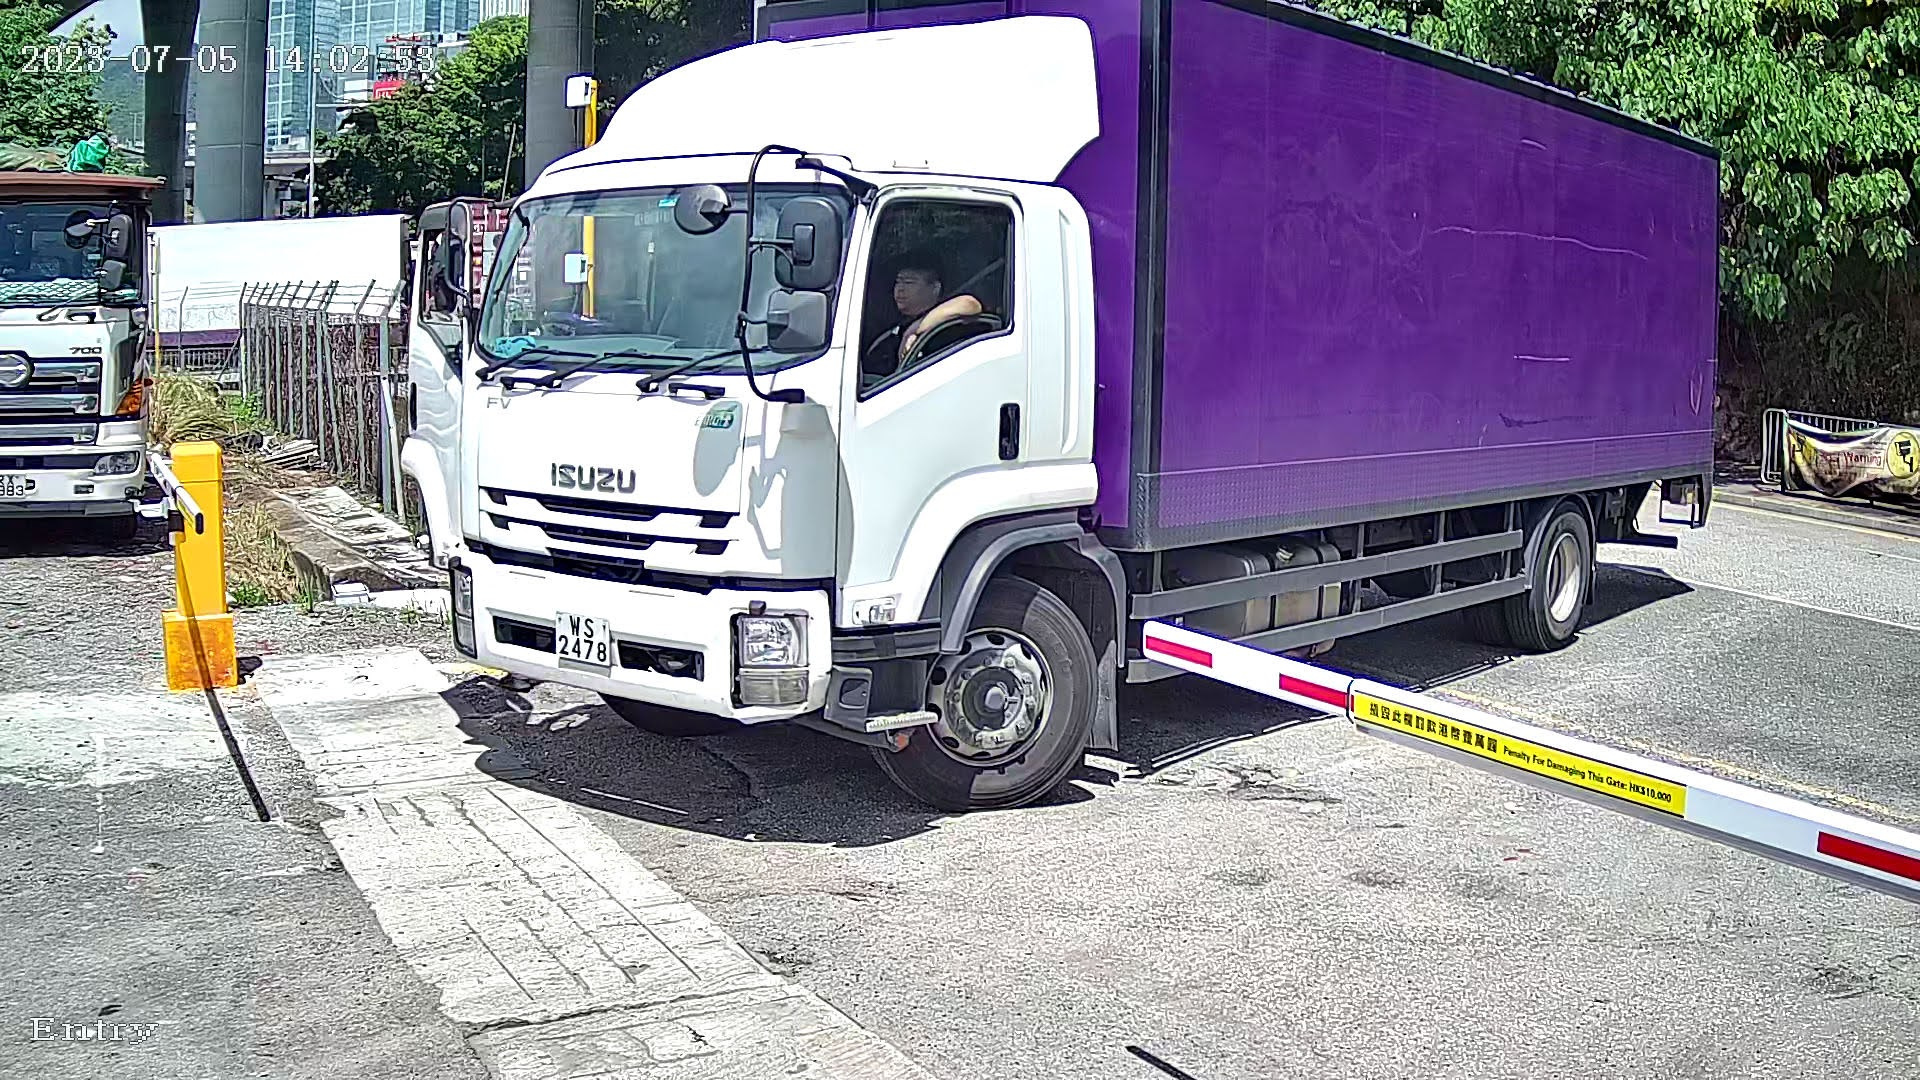truck_large: (349, 1, 1725, 851)
